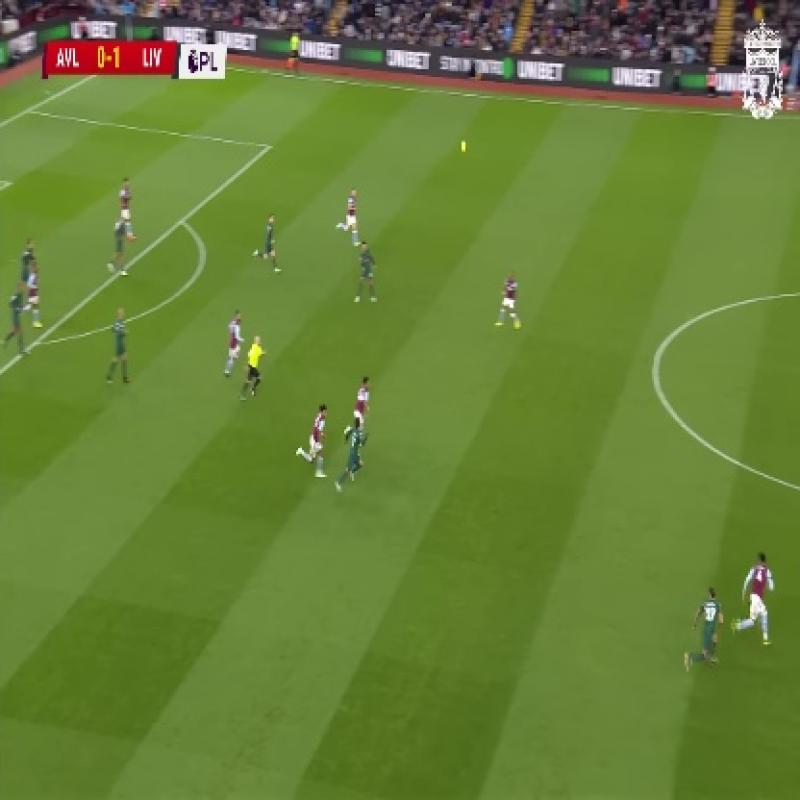1: (82, 69, 101, 83)
10: (171, 207, 189, 231)
11: (27, 327, 46, 354)
2: (18, 98, 36, 119)
7: (0, 171, 17, 192)
9: (258, 132, 277, 158)
c: (641, 340, 673, 376)
